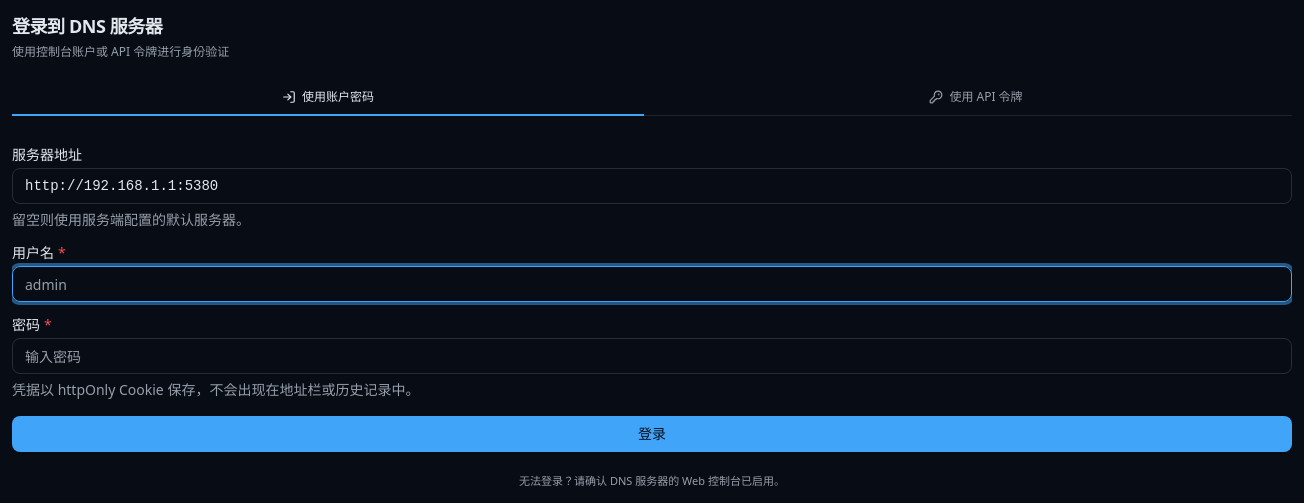
Test: LoginForm — rendering & mode switching › switches to token mode when the API token tab is clicked
Click the tab "使用 API 令牌".
click(976, 98)  # box [660,80,1292,116]
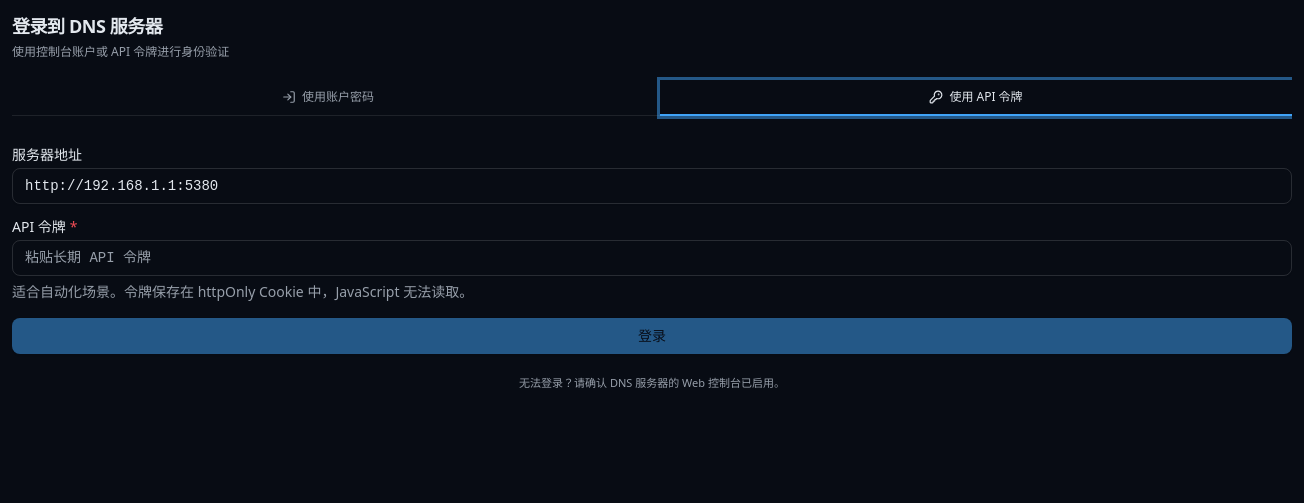
Now the password field labelled "API 令牌 *" is shown, box [12,240,1292,276]
Now the label labelled "用户名" is gone
